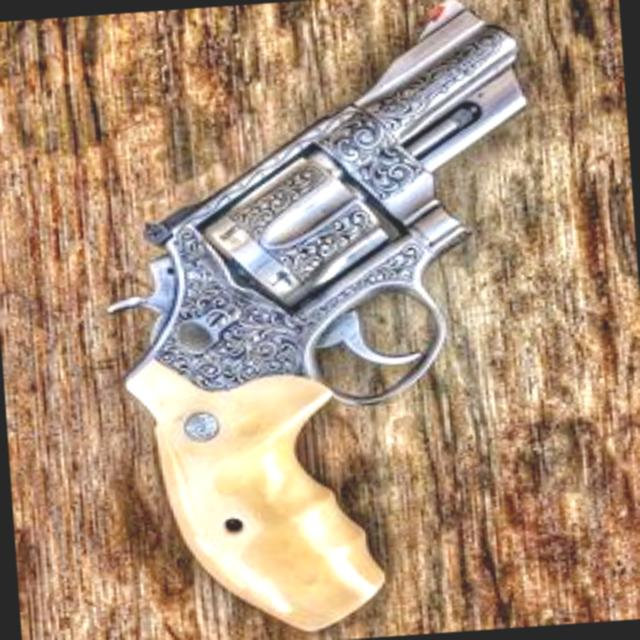revolver: (49, 0, 615, 640)
